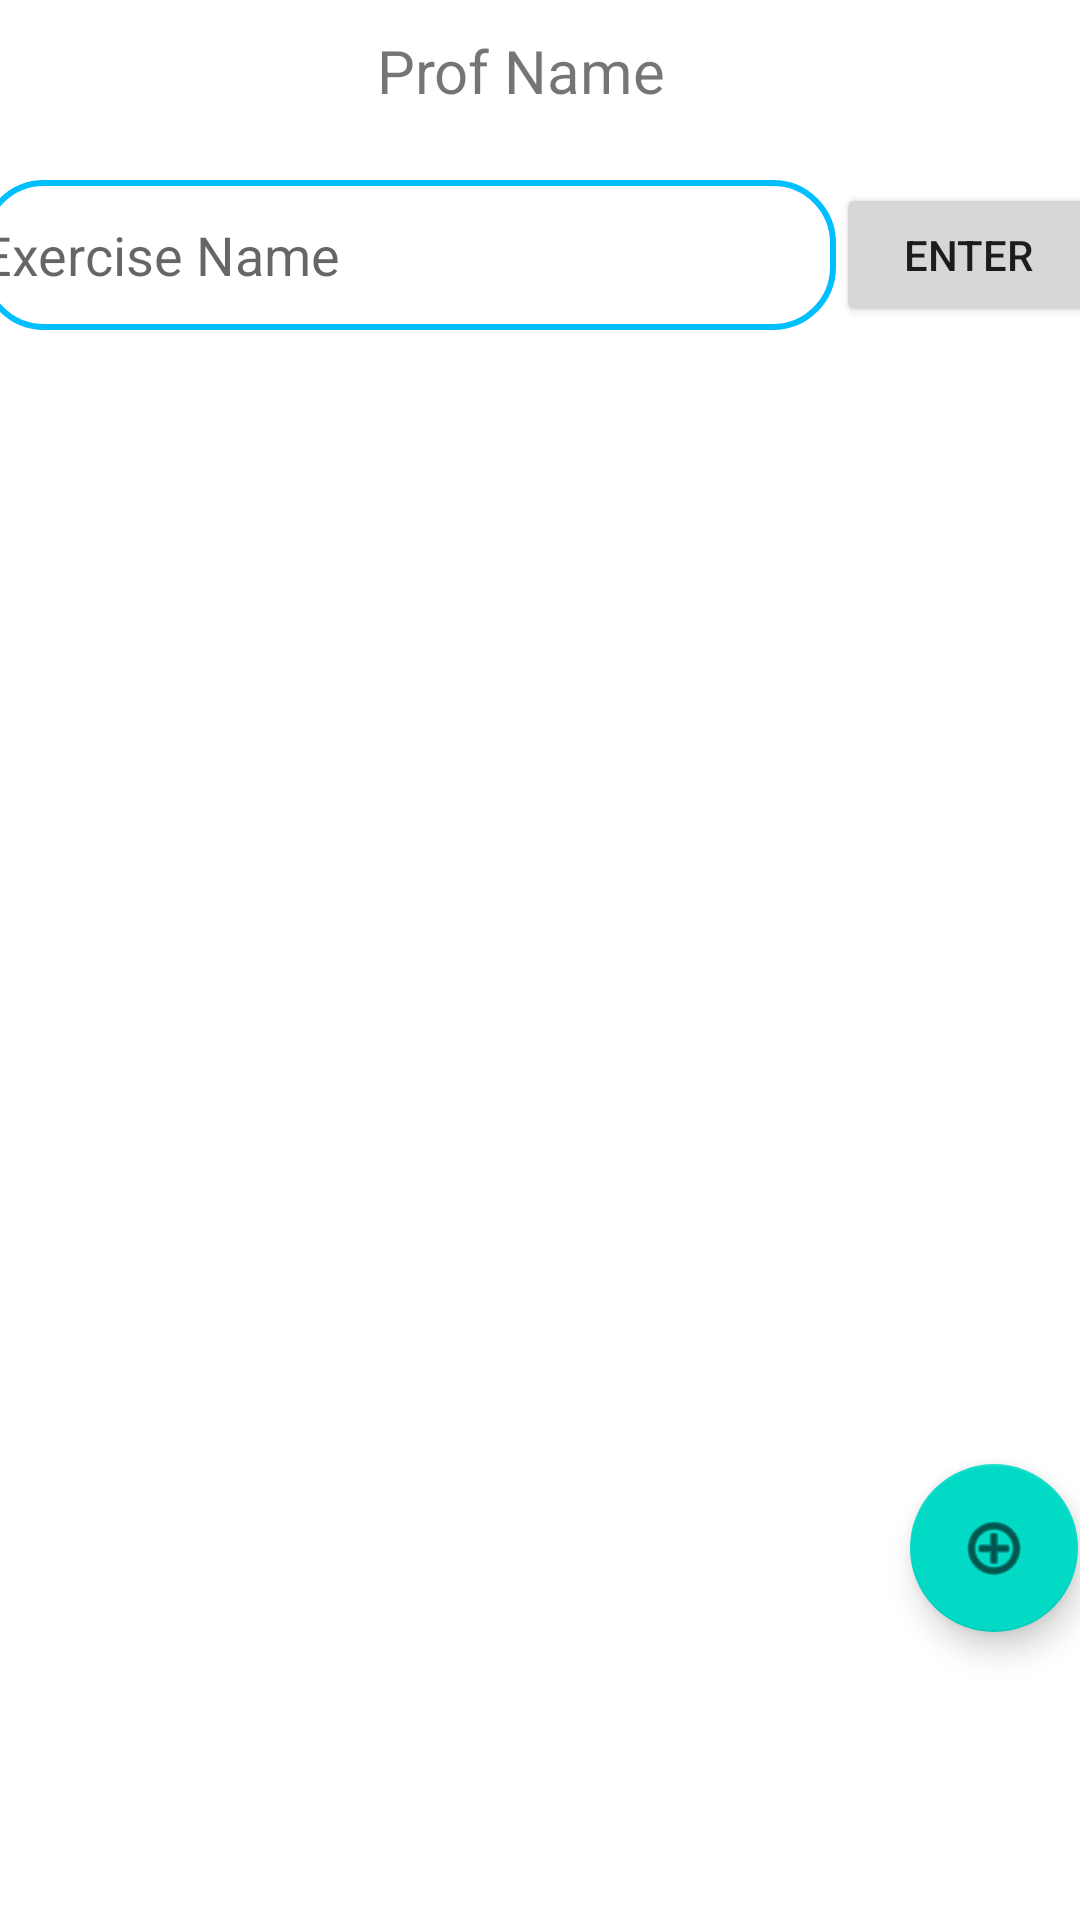

Screen size 1080px x 1920px. Icon name, then its box in pixels as (x1, y1, x2, y2):
add: (910, 1464, 1078, 1632)
